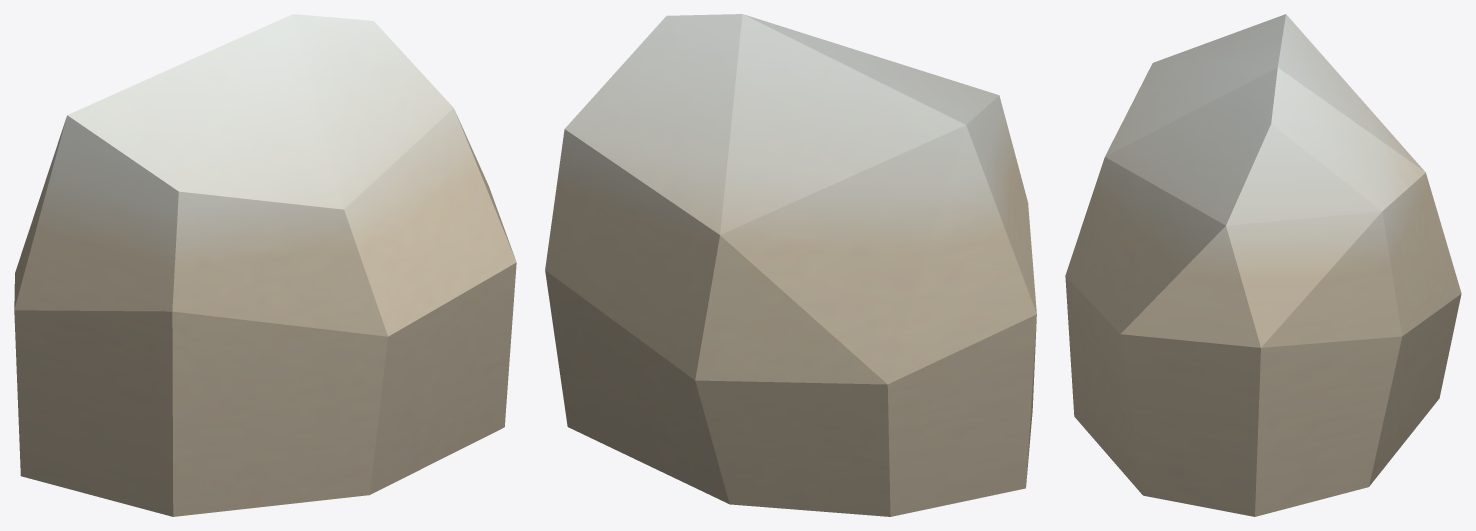
The model's file is Rock_A_Snow.obj.
The picture shows the model from 3 angles, left to right: view 1: azimuth 30°, elevation 25°; view 2: azimuth 150°, elevation 25°; view 3: azimuth 270°, elevation 25°; orthographic projection. The views are drawn at different scales.
Parts seen in each view (by area): view 1: Rock_A_Snow; view 2: Rock_A_Snow; view 3: Rock_A_Snow.
Part boxes in pixels (bbox=[...]): Rock_A_Snow: bbox=[14, 14, 516, 516]; Rock_A_Snow: bbox=[545, 14, 1036, 516]; Rock_A_Snow: bbox=[1065, 14, 1461, 516].
Bounding box in the file's own units: 0.7982 × 0.6451 × 0.6298.
